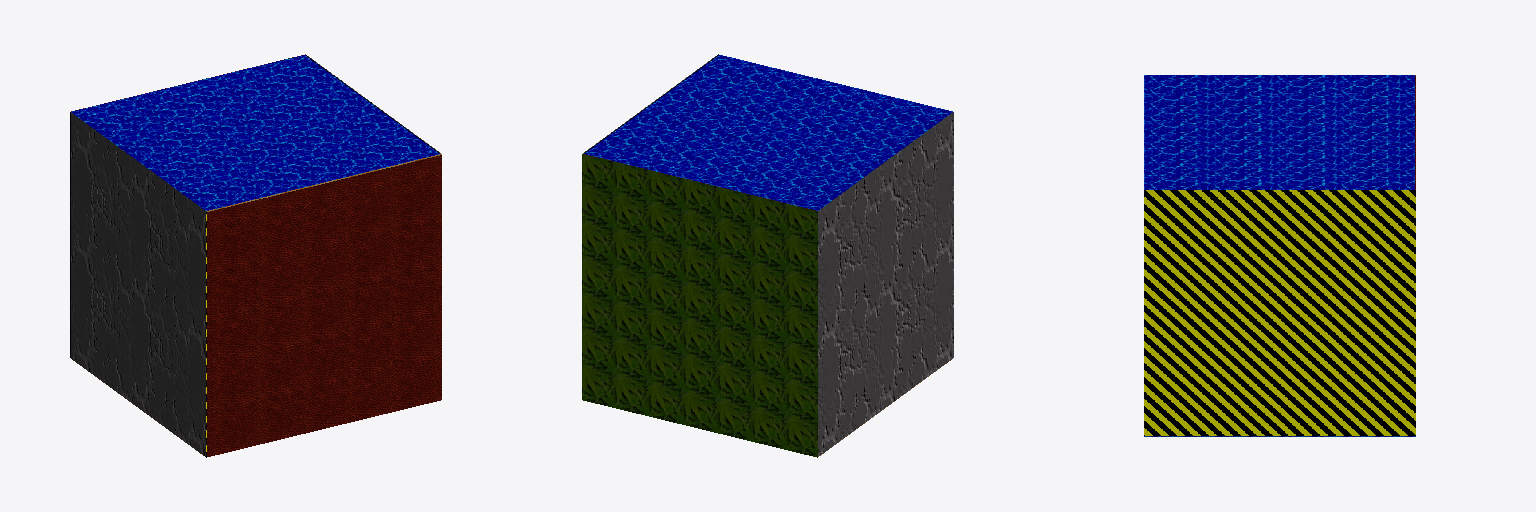
3 renders of one model, left to right at view 1: azimuth 30°, elevation 25°; view 2: azimuth 150°, elevation 25°; view 3: azimuth 270°, elevation 25°, orthographic.
Visible parts, largest first — view 1: Cube; view 2: Cube; view 3: Cube.
Part boxes in pixels (left/top/right/bottom): Cube: left=70, top=54, right=441, bottom=457; Cube: left=582, top=54, right=953, bottom=457; Cube: left=1144, top=75, right=1415, bottom=436.
Size of the model in its own units: 2 by 2 by 2.
Materials: 1 (1 with a texture image).